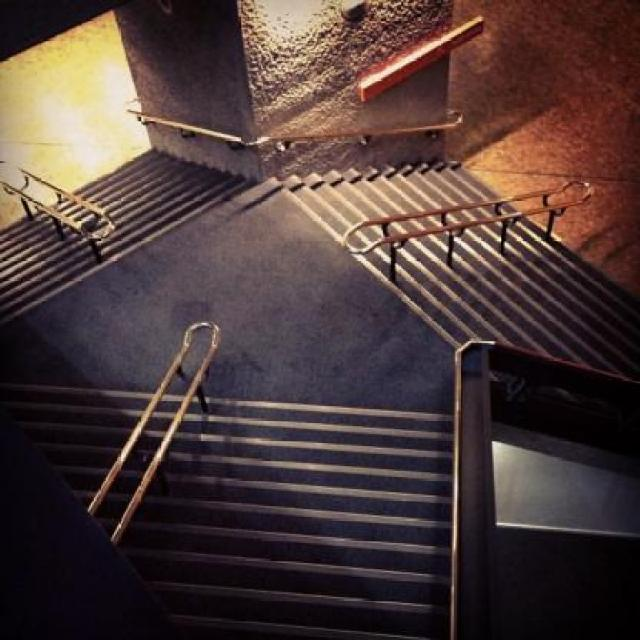stair: (0, 384, 455, 638), (271, 160, 640, 382), (0, 144, 265, 322)
